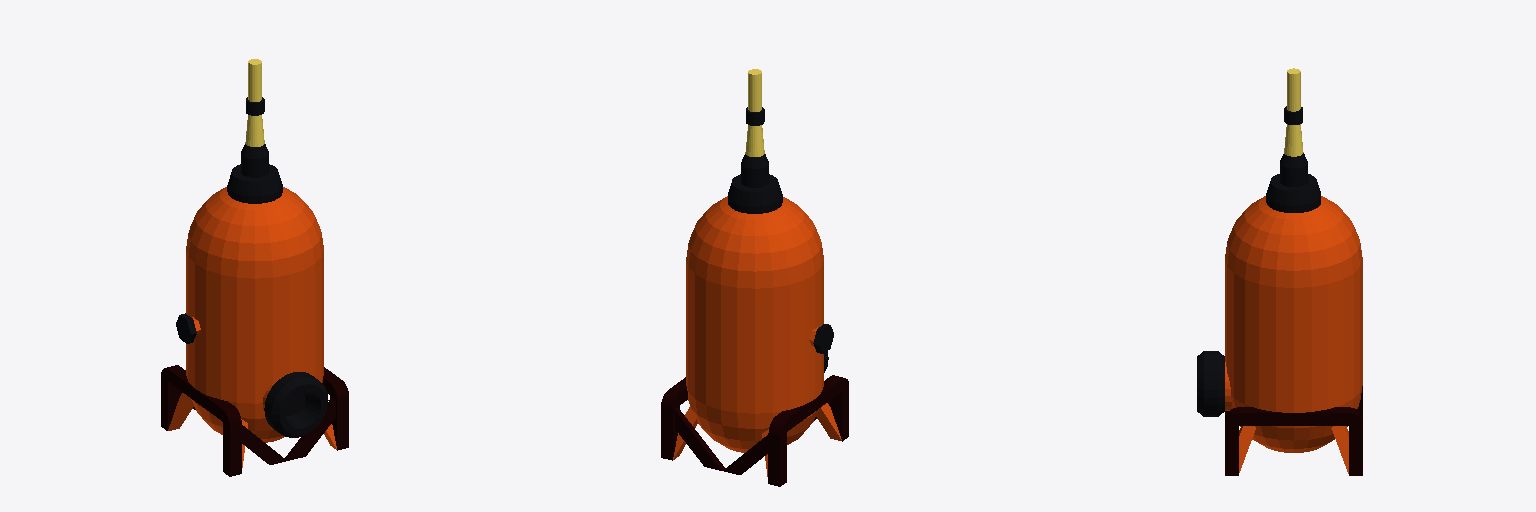
Rendered from FuelTank.obj.
The picture shows the model from 3 angles: view 1: azimuth 30°, elevation 25°; view 2: azimuth 150°, elevation 25°; view 3: azimuth 270°, elevation 25°; orthographic projection.
Visible parts, largest first — view 1: mergedBlocks; view 2: mergedBlocks; view 3: mergedBlocks.
Part boxes in pixels (left/top/right/bottom): mergedBlocks: left=161, top=59, right=348, bottom=476; mergedBlocks: left=661, top=69, right=848, bottom=486; mergedBlocks: left=1197, top=68, right=1362, bottom=475.
Bounding box in the file's own units: 1.1 × 3 × 1.2.